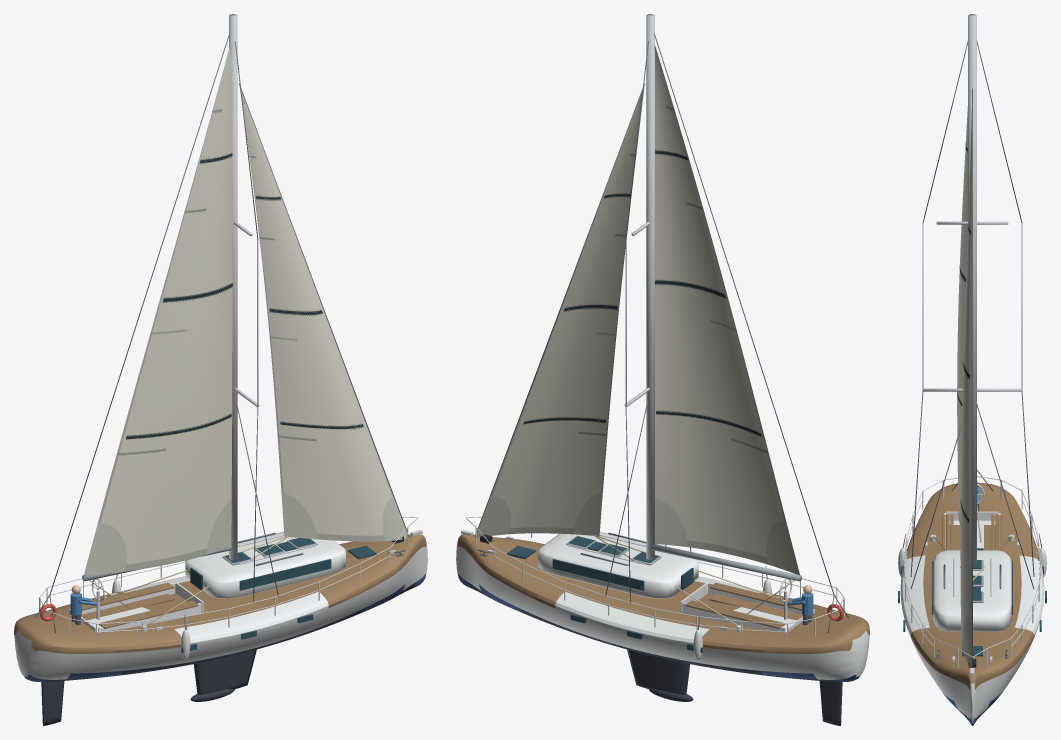
Rendered from regatta_sloop_sailing.glb.
The picture shows the model from 3 angles, left to right: view 1: azimuth 30°, elevation 25°; view 2: azimuth 150°, elevation 25°; view 3: azimuth 270°, elevation 25°; orthographic projection.
Visible parts, largest first — view 1: MainSail, Jib, Hull, Cabin, Mast, Rigging, Cockpit, Keel, Deck_Rails, Cabin_Glass, Rudder; view 2: MainSail, Jib, Hull, Cabin, Mast, Rigging, Cockpit, Keel, Deck_Rails, Cabin_Glass, Boom, Rudder; view 3: Hull, Cabin, Jib, Rigging, Mast, MainSail, Deck_Rails, Cockpit, Spreaders, Cabin_Glass, Deck_Fittings.
Boxes of the visible parts, x1=… form: MainSail: x1=84, y1=45, x2=232, y2=575; Jib: x1=239, y1=86, x2=408, y2=541; Hull: x1=14, y1=534, x2=427, y2=681; Cabin: x1=185, y1=532, x2=345, y2=598; Mast: x1=229, y1=14, x2=237, y2=560; Rigging: x1=35, y1=33, x2=409, y2=632; Cockpit: x1=69, y1=583, x2=203, y2=632; Keel: x1=193, y1=649, x2=256, y2=694; Deck_Rails: x1=39, y1=516, x2=418, y2=642; Cabin_Glass: x1=190, y1=533, x2=376, y2=590; Rudder: x1=41, y1=681, x2=64, y2=725; MainSail: x1=654, y1=44, x2=799, y2=575; Jib: x1=477, y1=87, x2=644, y2=537; Hull: x1=456, y1=534, x2=869, y2=681; Cabin: x1=538, y1=532, x2=698, y2=598; Mast: x1=646, y1=14, x2=654, y2=560; Rigging: x1=474, y1=33, x2=848, y2=632; Cockpit: x1=680, y1=583, x2=814, y2=632; Keel: x1=627, y1=649, x2=690, y2=694; Deck_Rails: x1=465, y1=516, x2=844, y2=642; Cabin_Glass: x1=507, y1=533, x2=693, y2=590; Boom: x1=651, y1=544, x2=801, y2=581; Rudder: x1=819, y1=681, x2=842, y2=725; Hull: x1=900, y1=483, x2=1044, y2=725; Cabin: x1=933, y1=550, x2=1011, y2=631; Jib: x1=960, y1=109, x2=971, y2=667; Rigging: x1=910, y1=40, x2=1034, y2=667; Mast: x1=968, y1=14, x2=976, y2=563; MainSail: x1=957, y1=106, x2=967, y2=524; Deck_Rails: x1=903, y1=476, x2=1041, y2=667; Cockpit: x1=944, y1=511, x2=1000, y2=550; Spreaders: x1=923, y1=221, x2=1021, y2=391; Cabin_Glass: x1=932, y1=548, x2=1012, y2=656; Deck_Fittings: x1=925, y1=541, x2=1019, y2=675.
Size of the model in its own units: 13.86 by 22.08 by 4.36.
17 materials, 1 textured.
